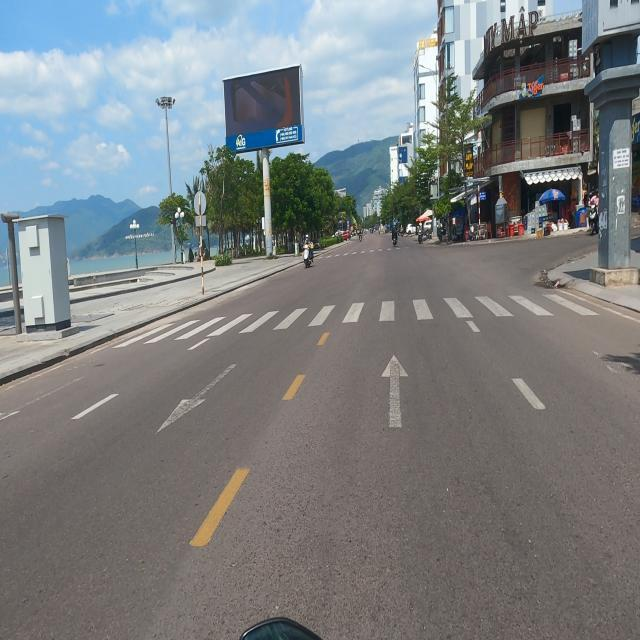walk-crossing: (110, 290, 615, 350)
